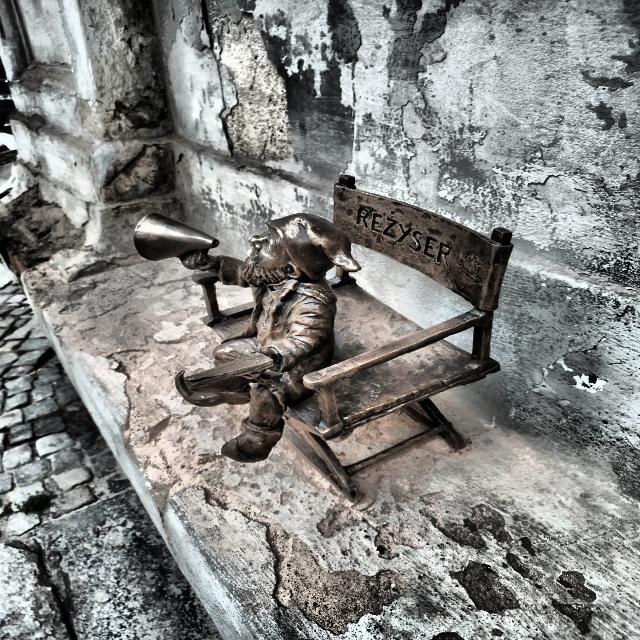Rezyser: (135, 175, 513, 498)
